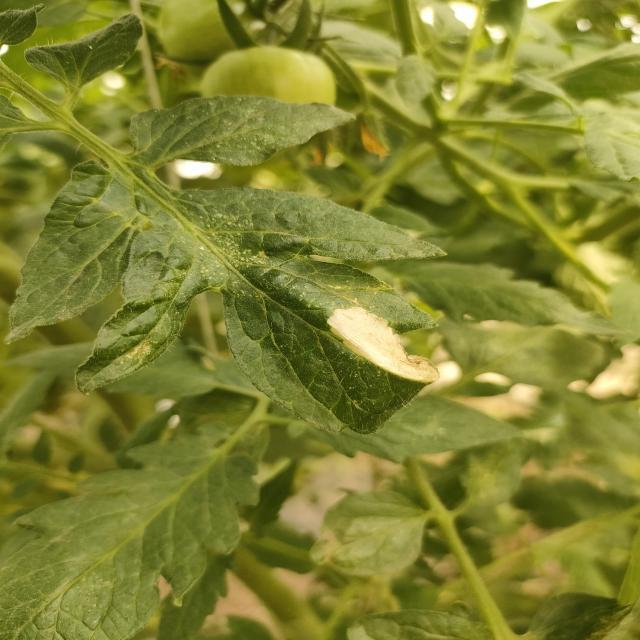Tuta absoluta: (323, 296, 450, 396)
